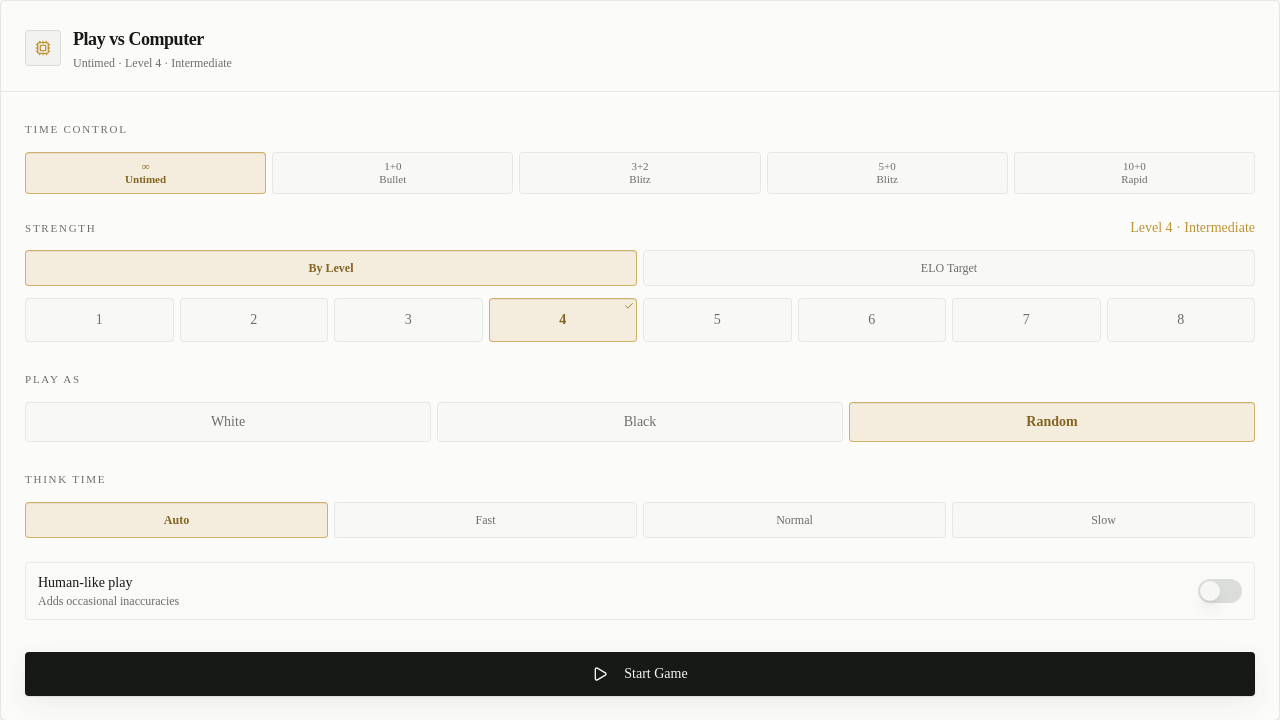
Test: ComputerGameSetup › level aria-pressed reflects selected level and label updates
The width and height of the screenshot is (1280, 720).
What coordinates should you click on to do the following:
click the button named "level 6 advanced"
I would click on:
 (872, 320)
Its box is top-left (798, 298), bottom-right (946, 342).
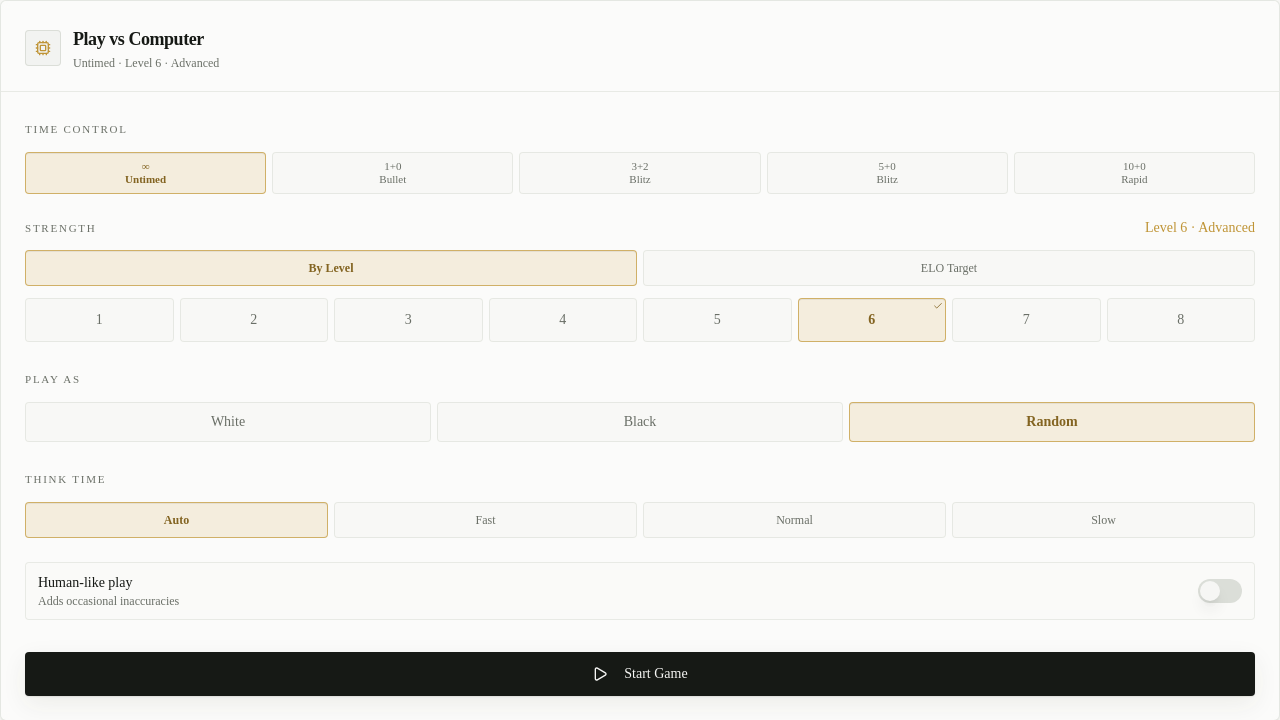
Expected: the text "Untimed · Level 6 · Advanced" is shown, top-left (73, 55), bottom-right (219, 71)
